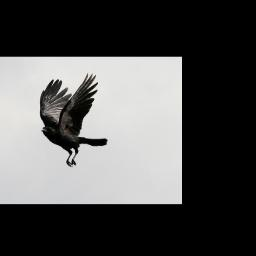Crow: (38, 73, 108, 169)
